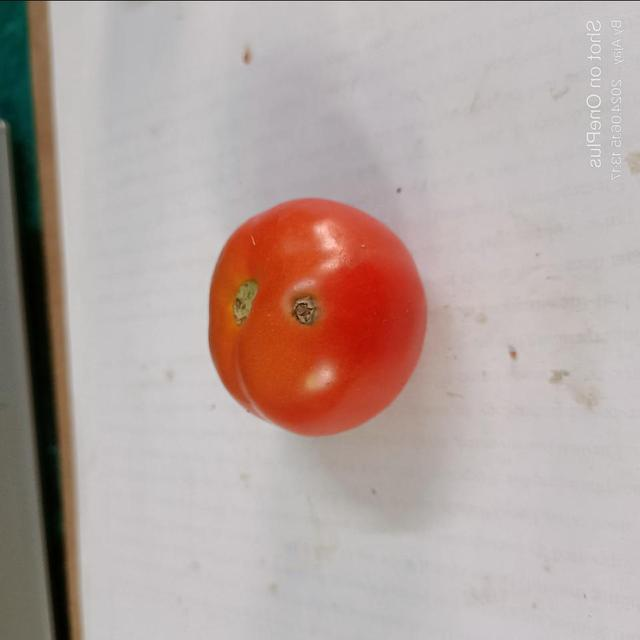Bacterial Spot Fruit: (192, 194, 213, 218)
